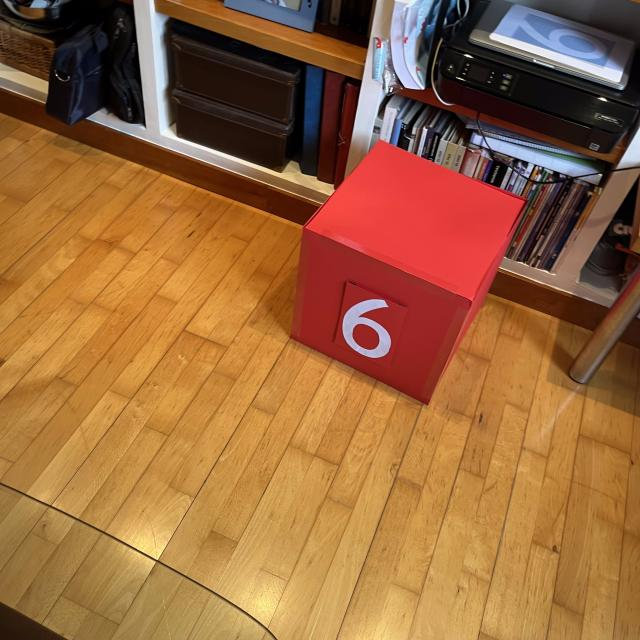box: (288, 137, 529, 406)
